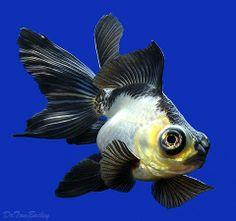goldfish: (65, 67, 223, 202)
